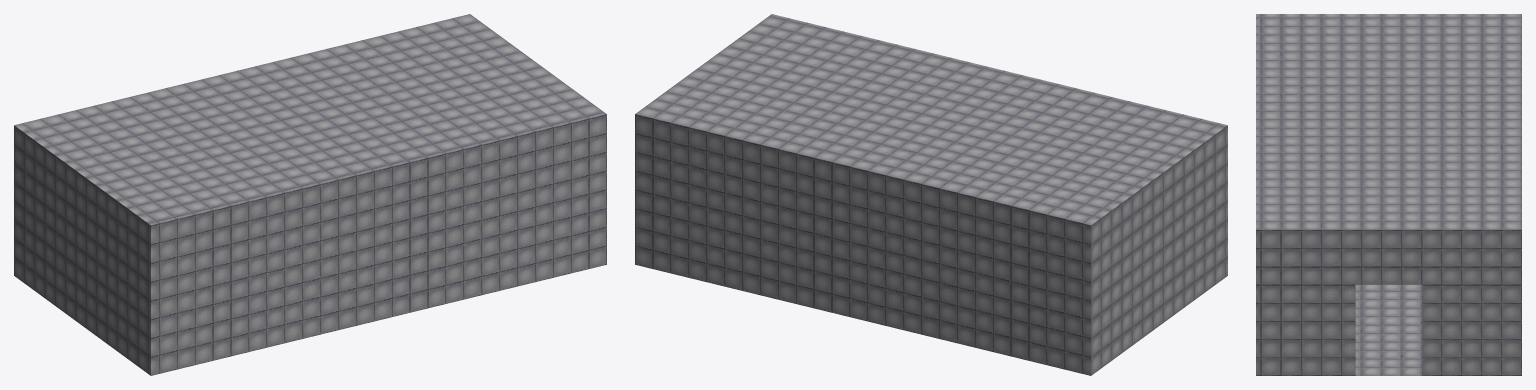
File: HOSPITAL.obj
3 views of the same model, side by side, from view 1: azimuth 30°, elevation 25°; view 2: azimuth 150°, elevation 25°; view 3: azimuth 270°, elevation 25° (orthographic). The views are drawn at different scales.
Visible parts, largest first — view 1: HOSPITAL; view 2: HOSPITAL; view 3: HOSPITAL.
Part boxes in pixels (left/top/right/bottom): HOSPITAL: left=14, top=14, right=606, bottom=375; HOSPITAL: left=635, top=14, right=1227, bottom=375; HOSPITAL: left=1256, top=14, right=1521, bottom=375.
Bounding box in the file's own units: 25.47 × 8.03 × 13.25.
Materials: 1 (1 with a texture image).
